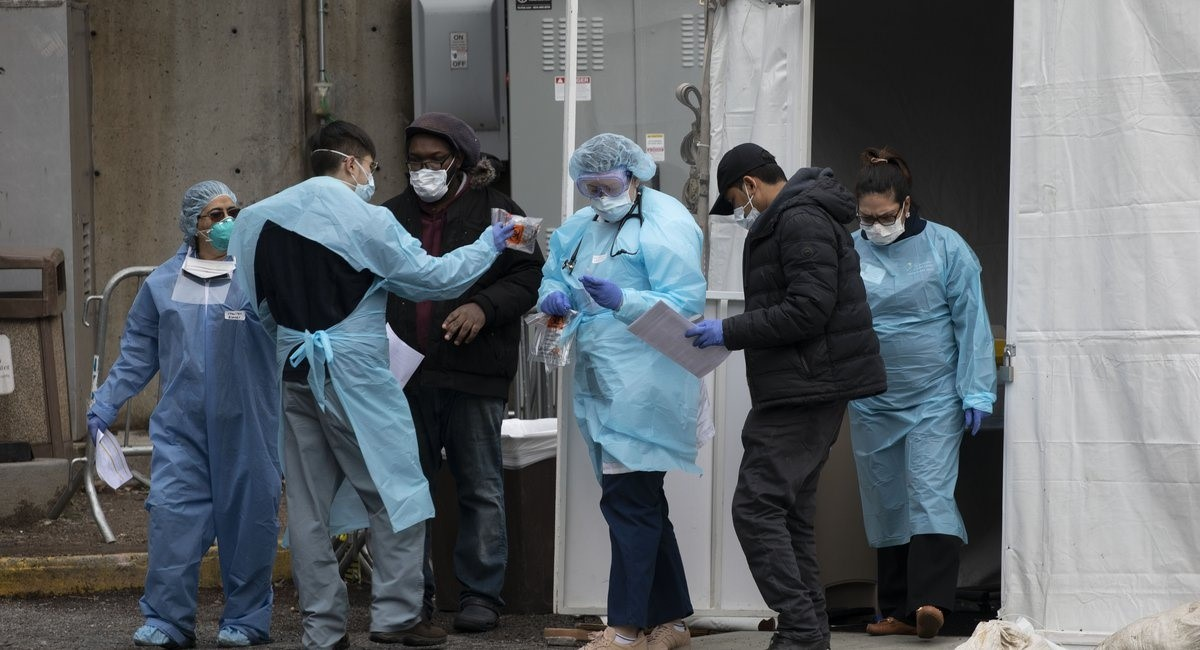face_with_mask: (566, 129, 659, 228), (400, 114, 485, 206), (703, 146, 785, 233), (303, 120, 377, 200), (854, 154, 910, 250), (178, 177, 242, 258)
